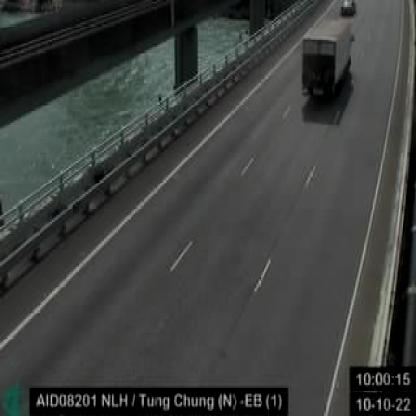Car: (338, 0, 356, 15)
Truck: (302, 17, 353, 98)
